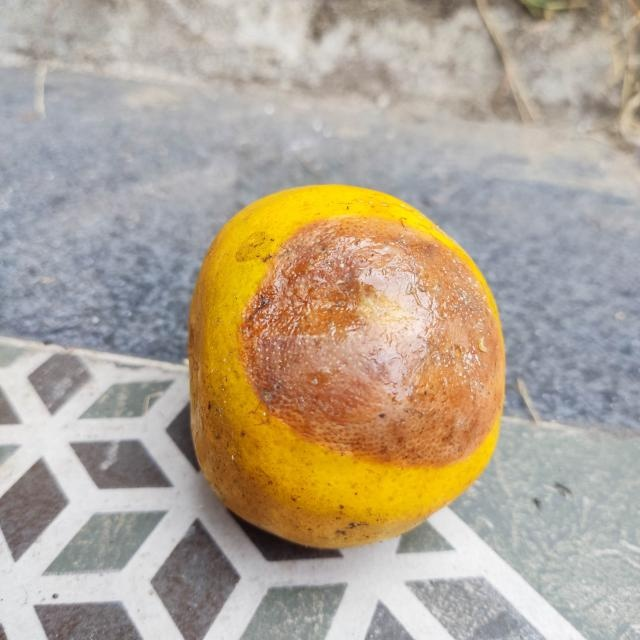agrume: (183, 180, 509, 552)
